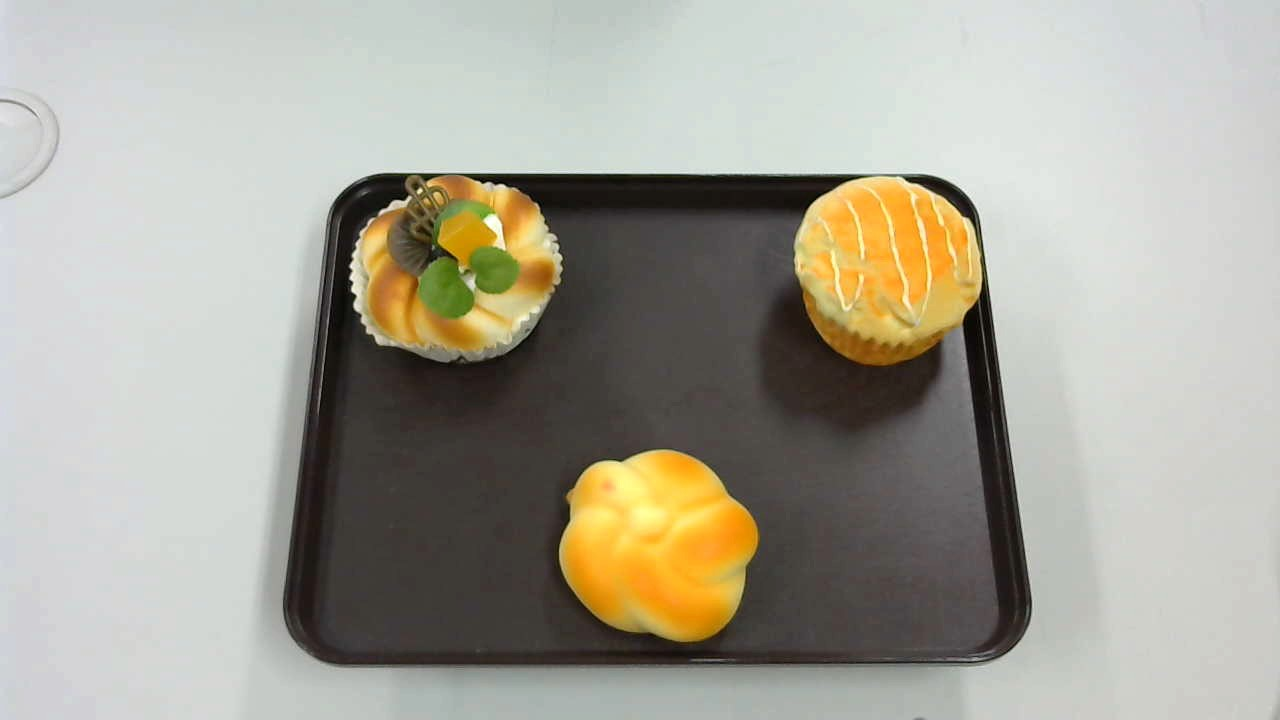croissant: (558, 449, 758, 644)
cupcake: (792, 177, 982, 367)
fruit tart: (348, 172, 564, 367)
